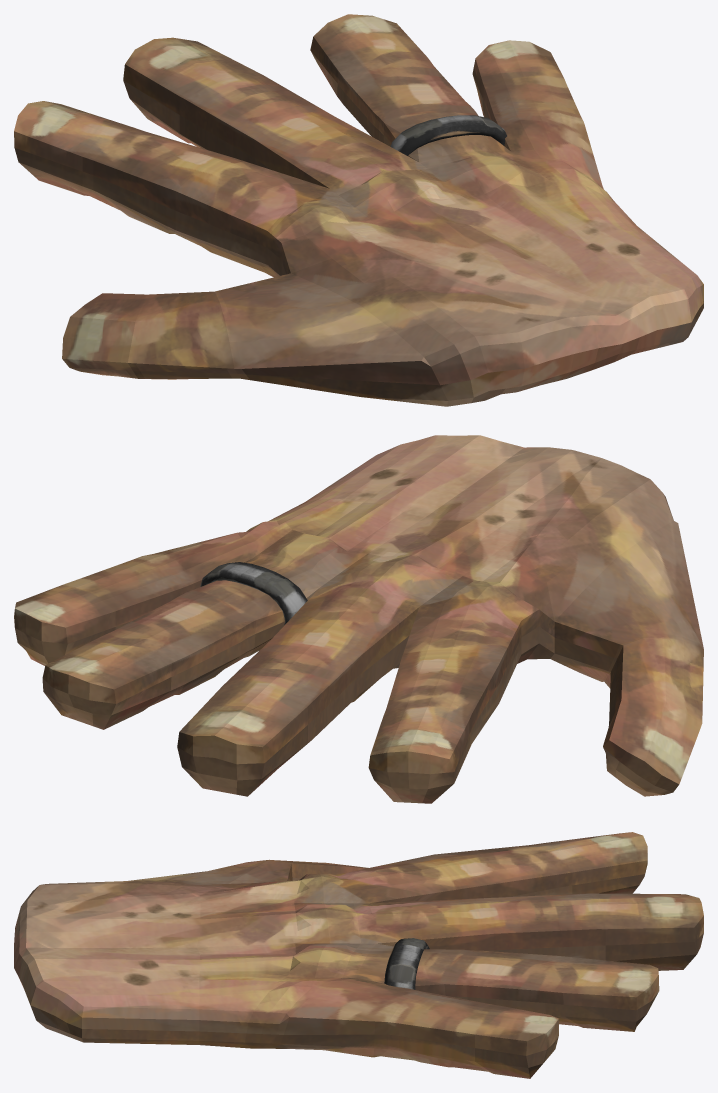
Rendered from Hand_Right01.fbx.
The picture shows the model from 3 angles, top to bottom: view 1: azimuth 30°, elevation 25°; view 2: azimuth 150°, elevation 25°; view 3: azimuth 270°, elevation 25°; orthographic projection. The views are drawn at different scales.
Parts seen in each view (by area): view 1: Hand_right01; view 2: Hand_right01; view 3: Hand_right01.
Part boxes in pixels (box(x1,y1,x2,y2)): Hand_right01: box(14, 14, 703, 406); Hand_right01: box(14, 435, 703, 803); Hand_right01: box(14, 832, 703, 1078).
Bounding box in the file's own units: 0.1875 × 0.0468 × 0.2213.
1 material, 1 textured.
